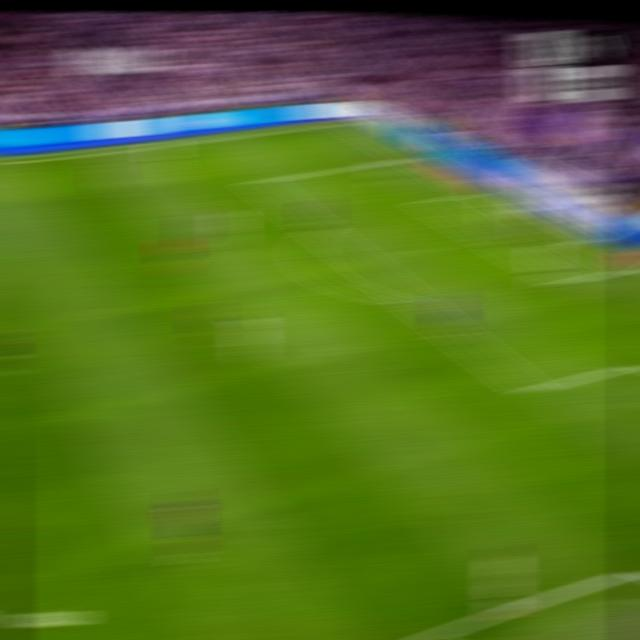bigarea_bottom_inner: (517, 379, 545, 401)
bigarea_top_inner: (246, 173, 270, 188)
bigarea_top_outter: (399, 149, 425, 162)
bottom_arc_area_intersection: (397, 289, 426, 309)
corner: (335, 117, 359, 126)
smallarea_bottom_inner: (551, 273, 578, 290)
smallarea_top_inner: (417, 197, 438, 206)
smallarea_top_outter: (465, 186, 488, 196)
top_arc_area_intersection: (307, 222, 332, 236)
